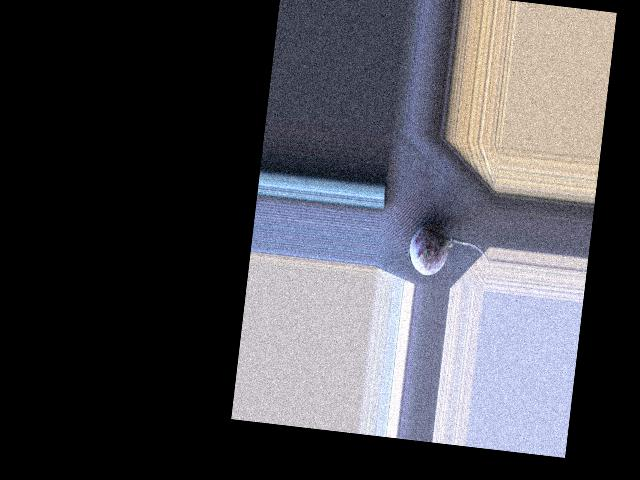beet: (406, 221, 491, 281)
